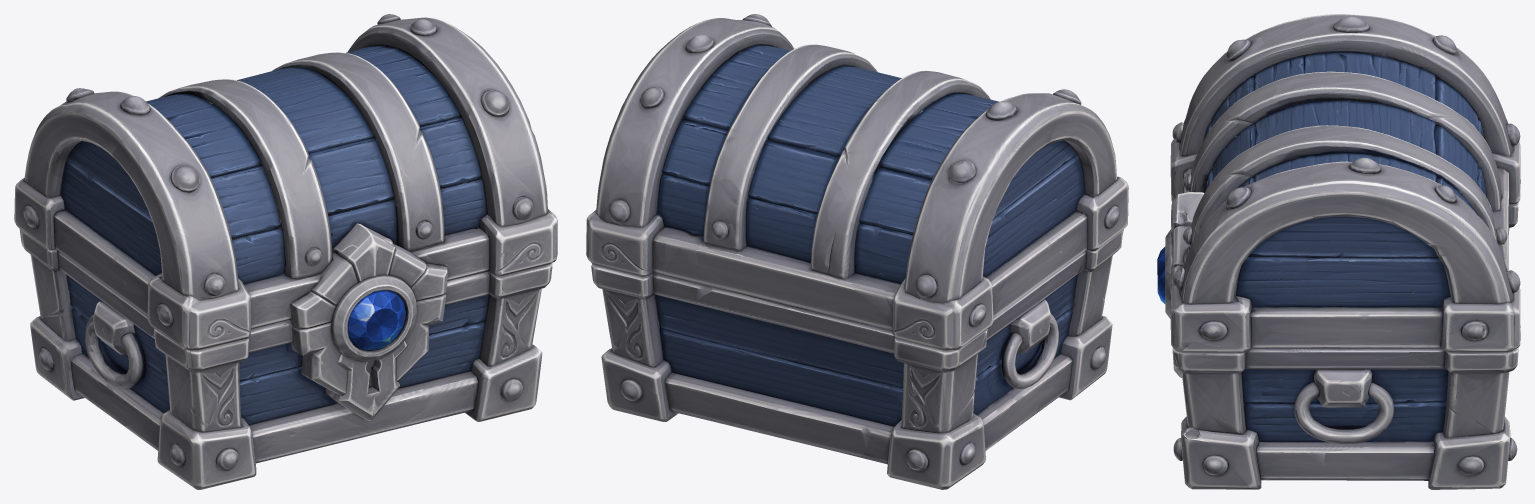
Rendered from silver.glb.
The picture shows the model from 3 angles, left to right: view 1: azimuth 30°, elevation 25°; view 2: azimuth 150°, elevation 25°; view 3: azimuth 270°, elevation 25°; orthographic projection. The views are drawn at different scales.
Bounding box in the file's own units: 1.9 × 1.55 × 1.59.
1 material, 1 textured.
